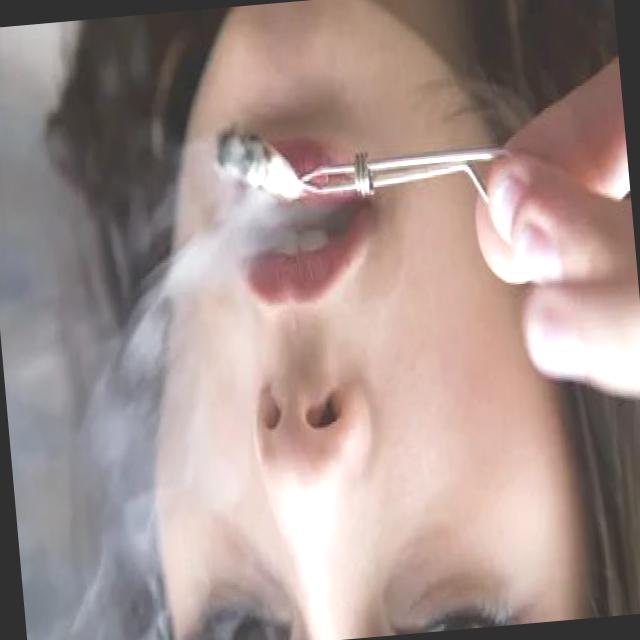cigarette: (208, 115, 310, 222)
